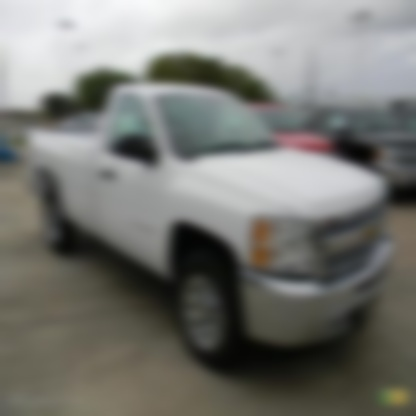Vehicle: (27, 84, 394, 371)
